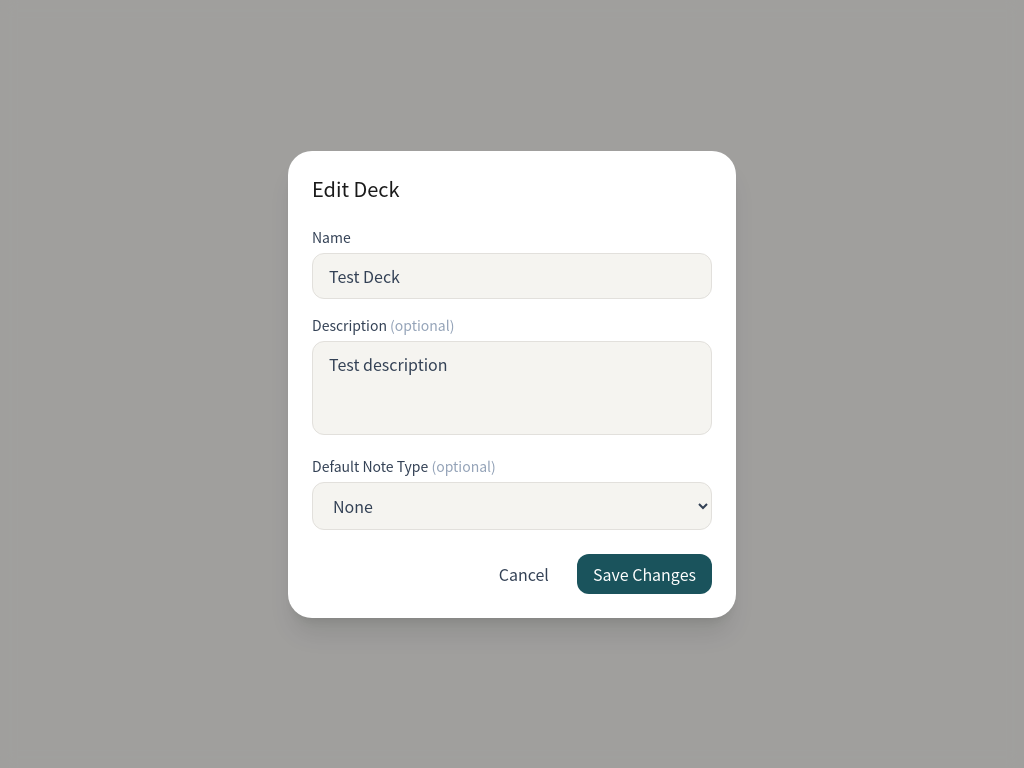
Test case: EditDeckModal › shows an error when the deck no longer exists locally
Click the button "Save Changes": (644, 574) [577, 554, 712, 594]
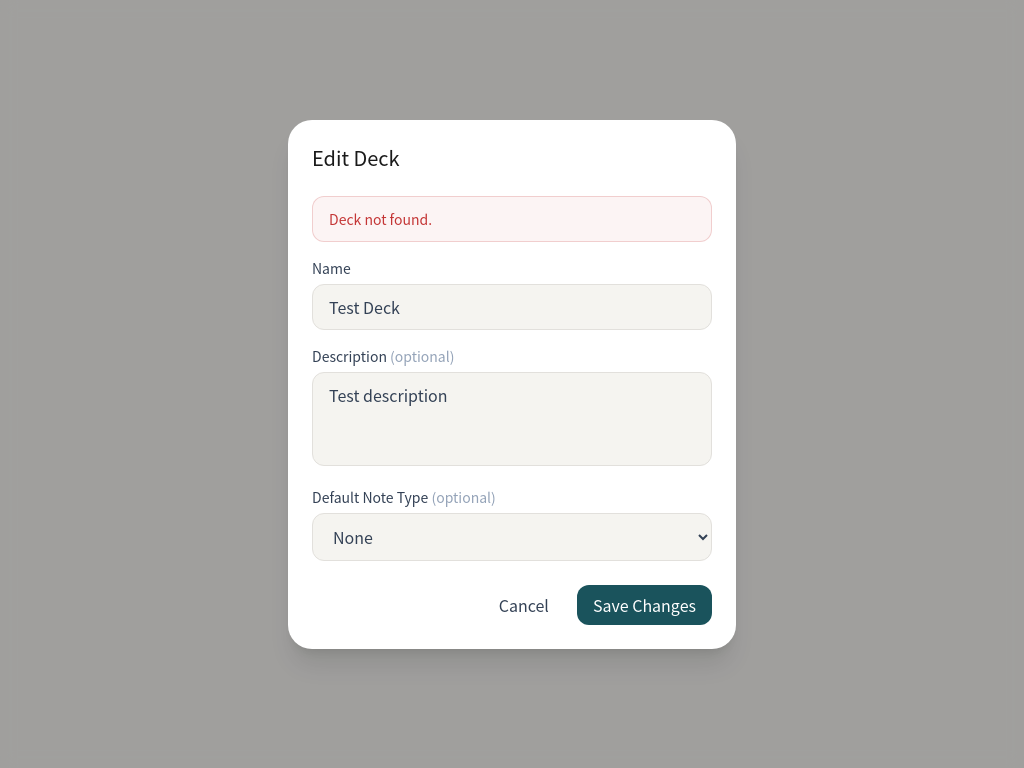
Now the message reads "Deck not found.", box [329, 208, 432, 228]
